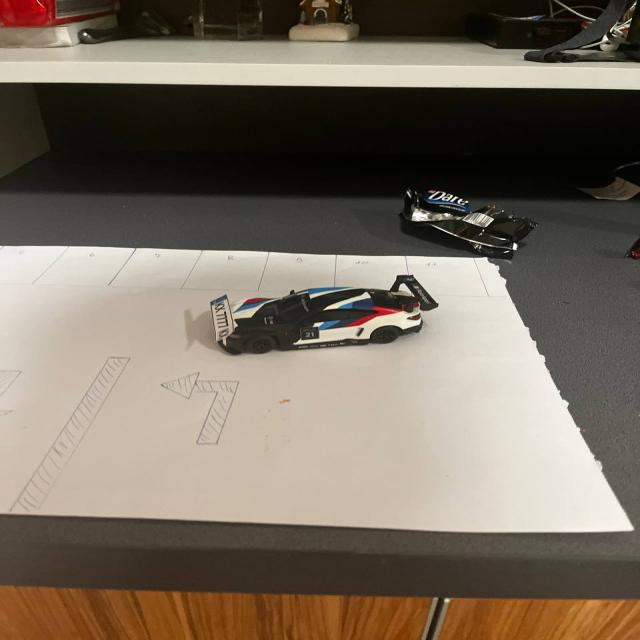KX 7777 KX: (204, 285, 240, 345)
